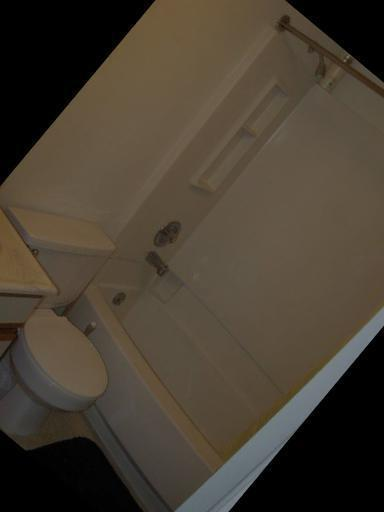Ducha: (64, 11, 373, 350)
Sanitario: (0, 186, 183, 453)
